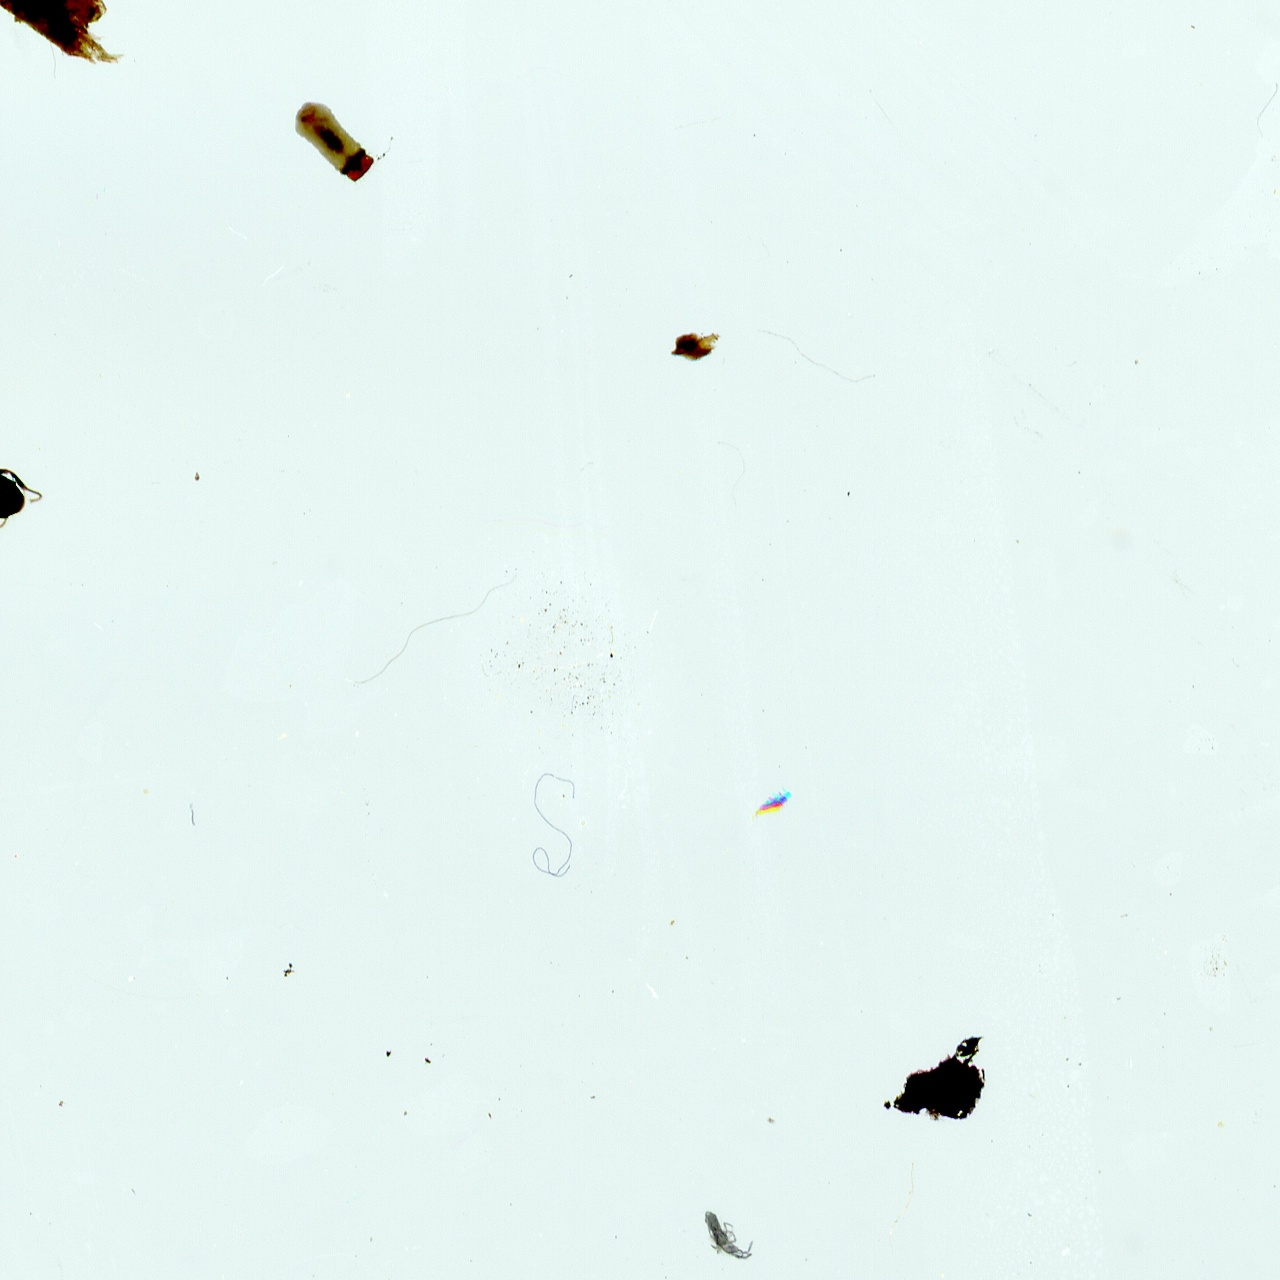arthropod: (271, 84, 402, 211), (0, 413, 57, 540), (693, 1201, 764, 1266), (742, 784, 794, 825)
